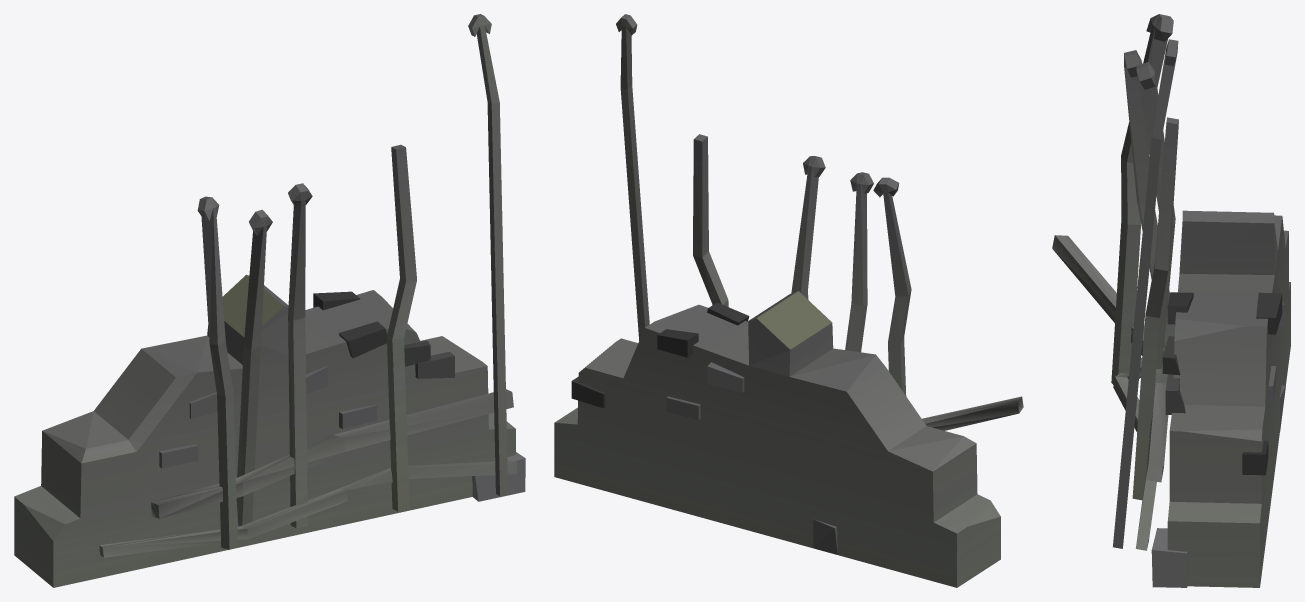
File: ea_arch_wall02_ruin_01b_pre_lev1.glb
3 views of the same model, side by side, from view 1: azimuth 30°, elevation 25°; view 2: azimuth 150°, elevation 25°; view 3: azimuth 270°, elevation 25° (orthographic). The views are drawn at different scales.
Parts seen in each view (by area): view 1: ea_arch_wall02_ruin_01b_pre_lev1; view 2: ea_arch_wall02_ruin_01b_pre_lev1; view 3: ea_arch_wall02_ruin_01b_pre_lev1.
Part boxes in pixels (x1,y1,x2,y2): ea_arch_wall02_ruin_01b_pre_lev1: [14, 14, 525, 587]; ea_arch_wall02_ruin_01b_pre_lev1: [554, 14, 1023, 587]; ea_arch_wall02_ruin_01b_pre_lev1: [1052, 14, 1290, 587].
Size of the model in its own units: 8.48 by 8.55 by 3.51.
Materials: 1 (1 with a texture image).
